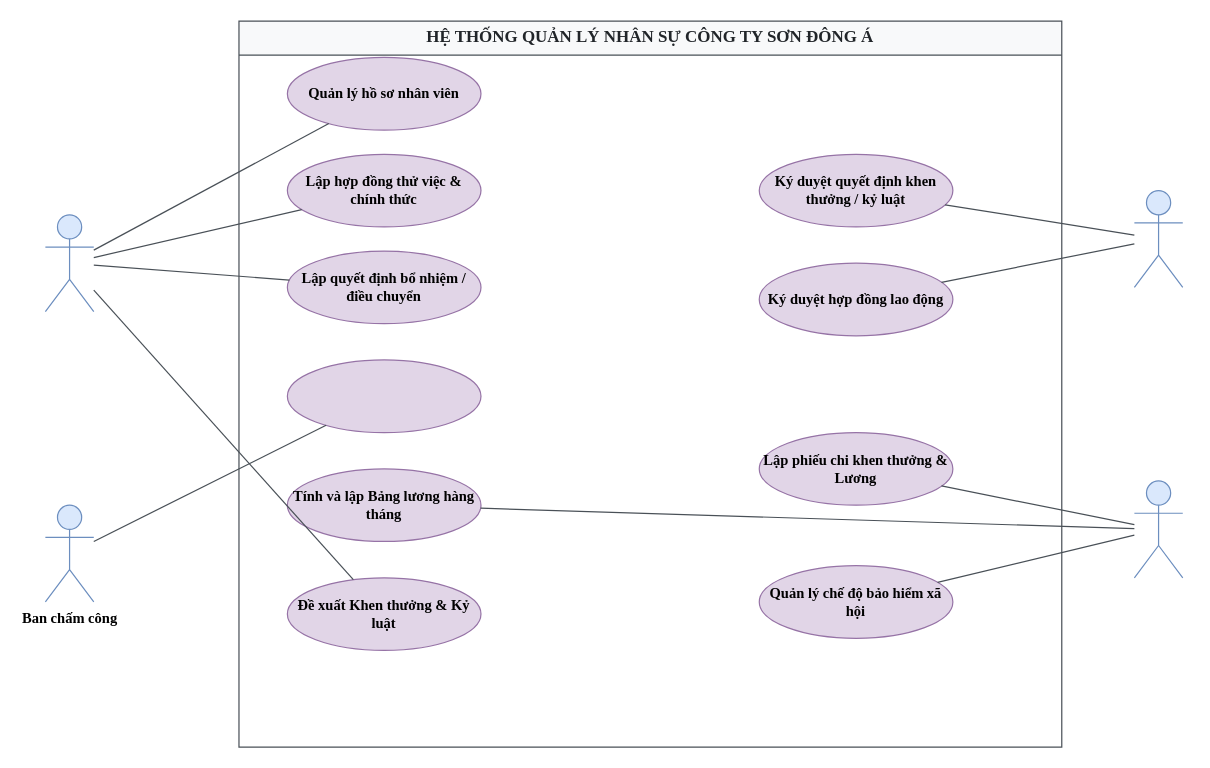
Image size: 1210x768. Some labels were removed from this diagram. The shapes that lost their labels are listed below. From the top down, each one's box as (x1, y1, x2, y2) in pixels, then its label:
(1133, 189, 1183, 287): Giám đốc
(44, 214, 94, 312): Cán bộ nhân sự
(286, 359, 481, 433): Ghi nhận chấm công & phụ trội
(1133, 480, 1183, 578): Kế toán
